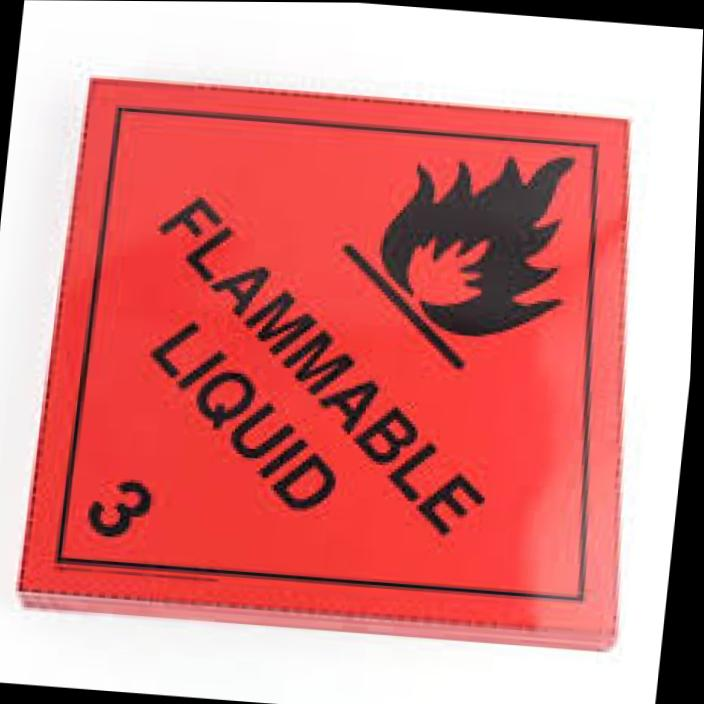can and bottle trash cans: (24, 81, 624, 643)
